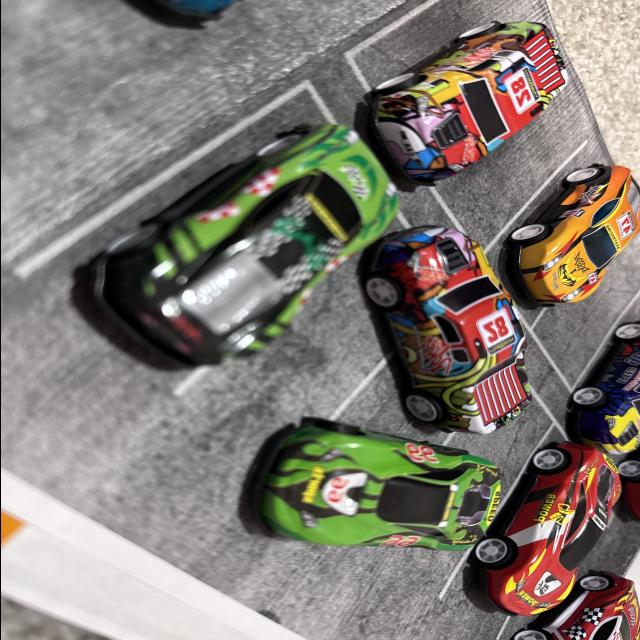Car: (51, 128, 359, 406), (373, 0, 597, 163), (276, 417, 542, 546), (453, 447, 630, 629), (383, 247, 527, 457), (517, 147, 640, 293), (507, 556, 640, 640), (557, 318, 640, 437)
